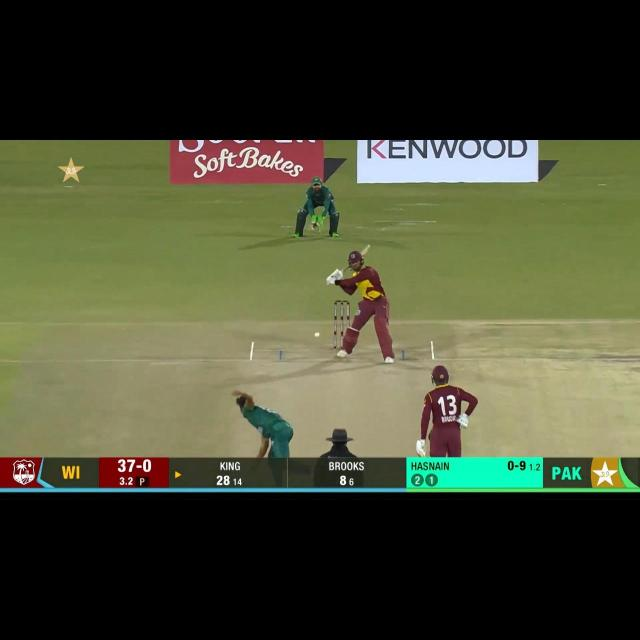toe: (358, 245, 374, 260)
